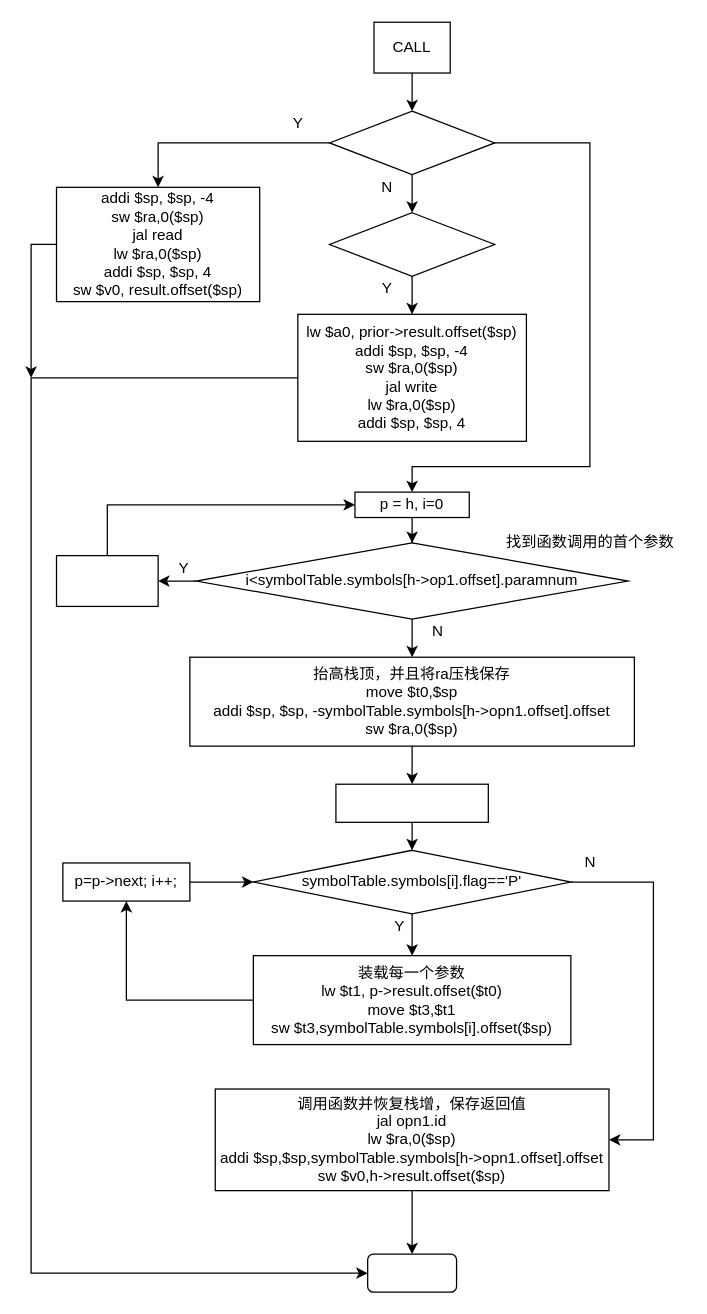
Image size: 707x1314. Some labels were removed from this diagram. Here are the shapes that lost their labels. From the top down, the centre of each, then its label:
At pixel 411 142: "op1.id == read ?".
At pixel 411 243: "op1.id == write?".
At pixel 106 580: "p=p->prior i++".
At pixel 411 802: "i=h->opn1.offset+1".
At pixel 411 1272: "结束".
